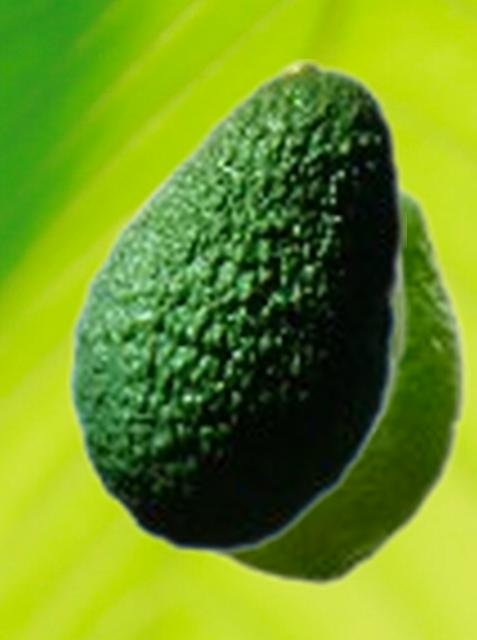avocado: (66, 59, 405, 556), (94, 56, 409, 478), (200, 168, 469, 588)
